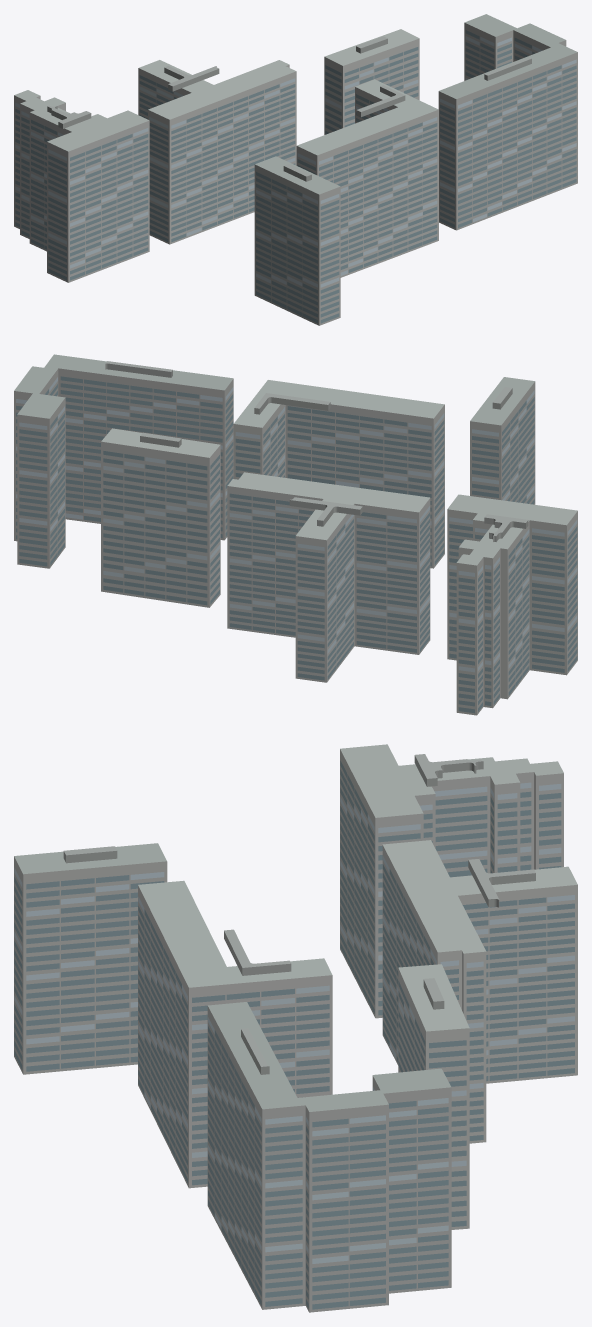
Rendered from apt-a13981208.glb.
3 renders of one model, top to bottom at view 1: azimuth 30°, elevation 25°; view 2: azimuth 150°, elevation 25°; view 3: azimuth 270°, elevation 25°, orthographic. The views are drawn at different scales.
Parts seen in each view (by area): view 1: apt-a13981208; view 2: apt-a13981208; view 3: apt-a13981208.
Boxes of the visible parts, left/top/right/bottom form: apt-a13981208: left=14, top=14, right=577, bottom=325; apt-a13981208: left=14, top=354, right=577, bottom=715; apt-a13981208: left=14, top=744, right=577, bottom=1312.
Size of the model in its own units: 238 by 63 by 154.
